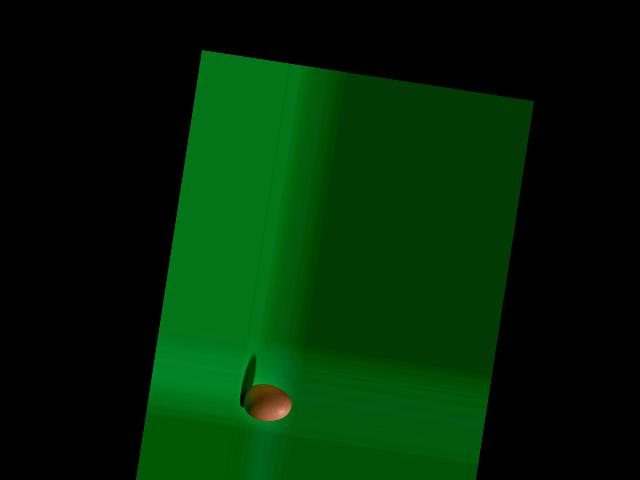egg: (240, 380, 293, 424)
